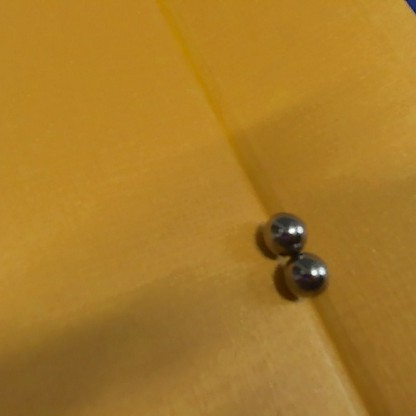ironball: (257, 203, 307, 258), (281, 253, 331, 300)
